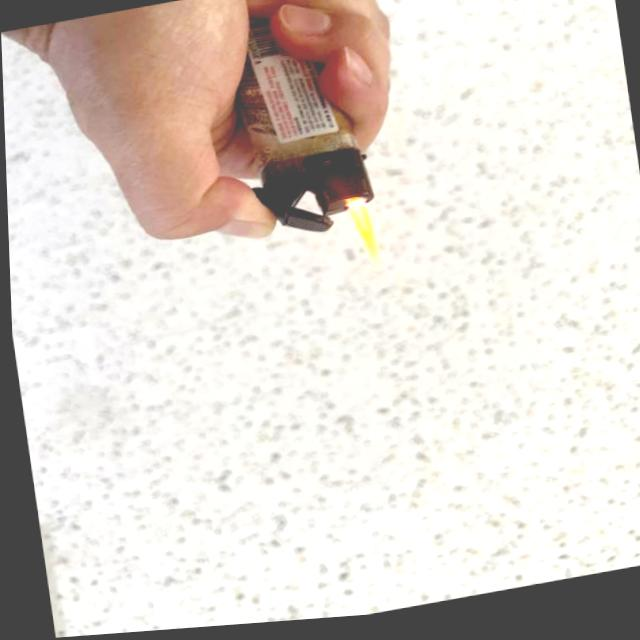helmet: (344, 204, 381, 272)
